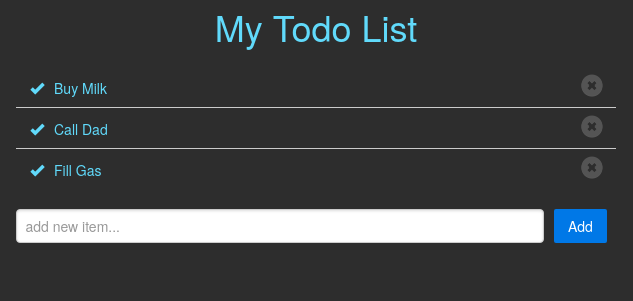
Test case: TodoApp should add new item to the bottom of the list
Type "New Task" into the field with test id "newItemField".
click(280, 226); type("New Task")  # box 16,209 -> 544,243
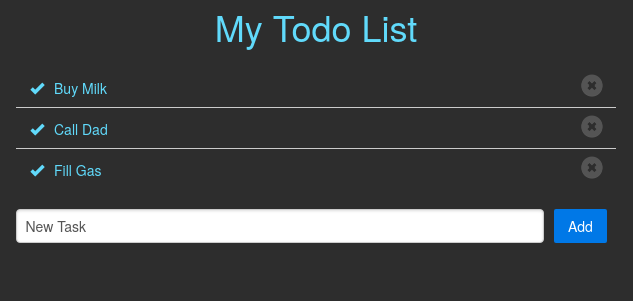
Click the button with test id "addBtn".
click(580, 226)  # box 554,209 -> 607,243
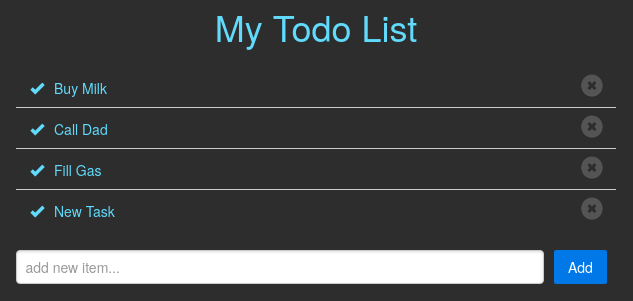
Expected: the number of rows is 4, 16,67 -> 616,107; 16,107 -> 616,148; 16,148 -> 616,189; 16,189 -> 616,230
Expected: the row "New Task" is shown, 16,189 -> 616,230
